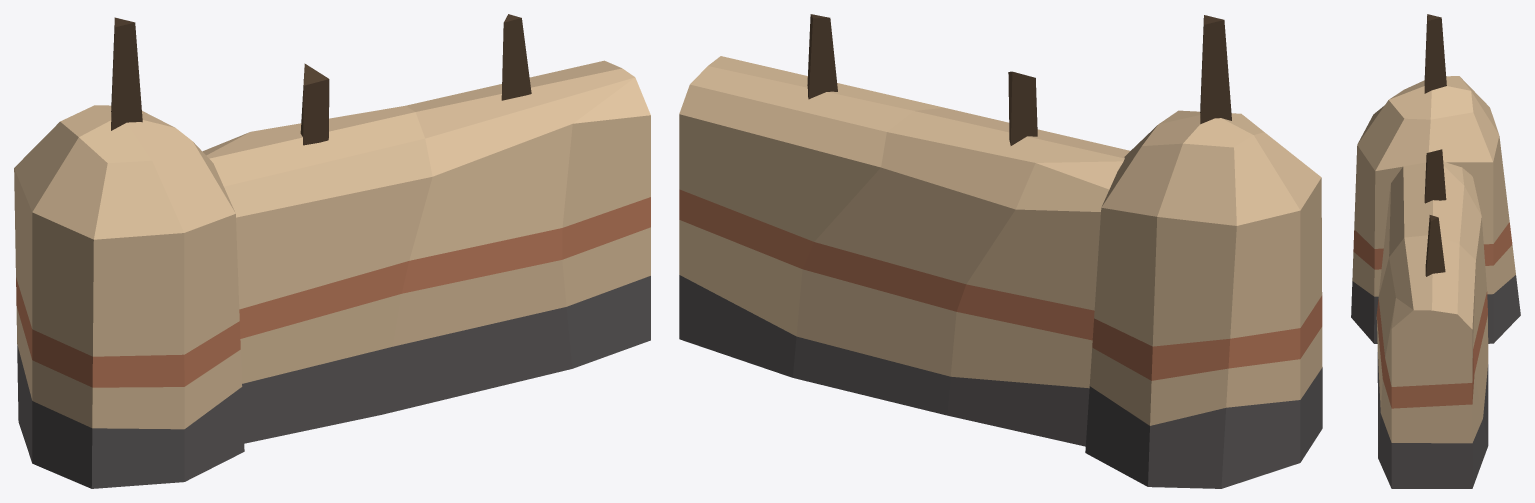
The model's file is SM_Fence_Wall_Empire.fbx.
3 renders of one model, left to right at view 1: azimuth 30°, elevation 25°; view 2: azimuth 150°, elevation 25°; view 3: azimuth 270°, elevation 25°, orthographic. The views are drawn at different scales.
Visible parts, largest first — view 1: SM_Fence_Wall_Empire; view 2: SM_Fence_Wall_Empire; view 3: SM_Fence_Wall_Empire.
Part boxes in pixels (left/top/right/bottom): SM_Fence_Wall_Empire: left=14, top=14, right=650, bottom=488; SM_Fence_Wall_Empire: left=679, top=14, right=1322, bottom=488; SM_Fence_Wall_Empire: left=1351, top=14, right=1520, bottom=488.
Bounding box in the file's own units: 3 × 2.04 × 1.05.
